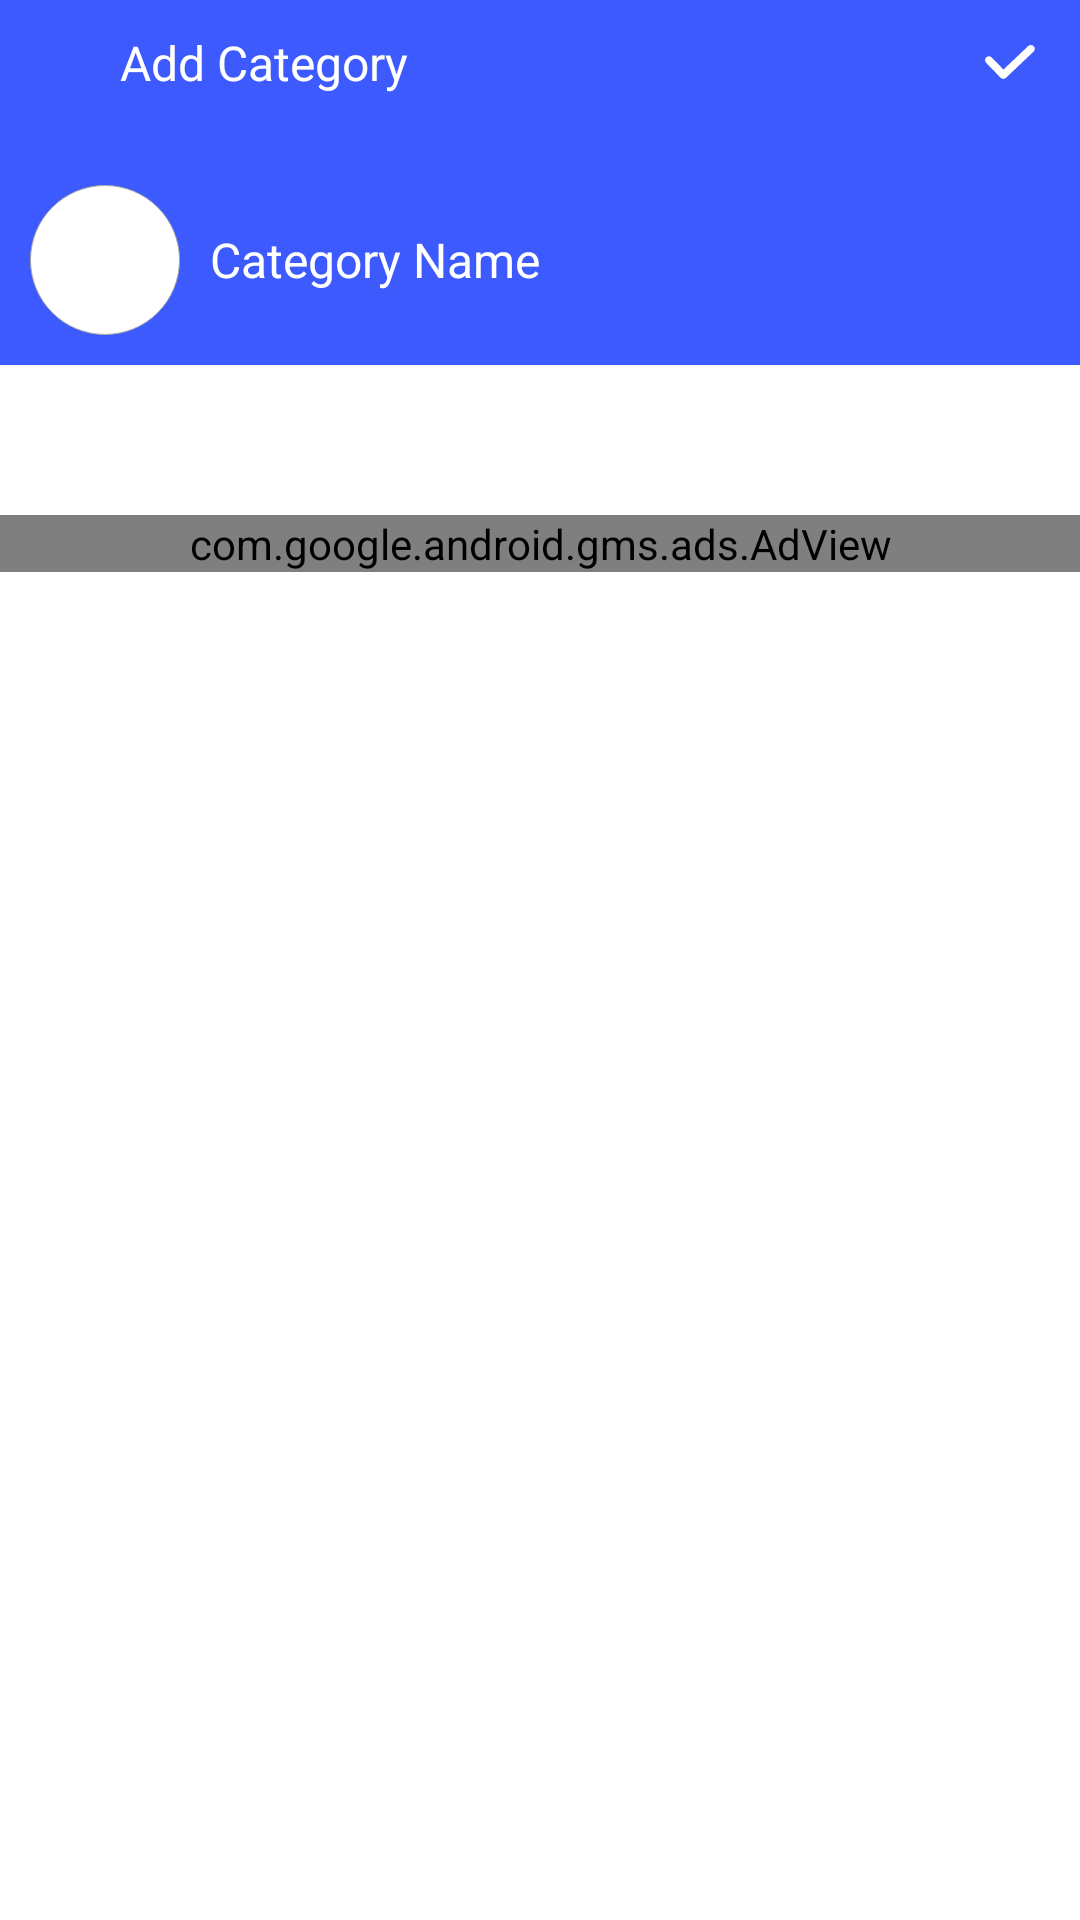

Icon bounding boxes for this 1080w x 1920h phone screenshot, format (x1, y1, x2, y2):
tick: (985, 45, 1035, 79)
